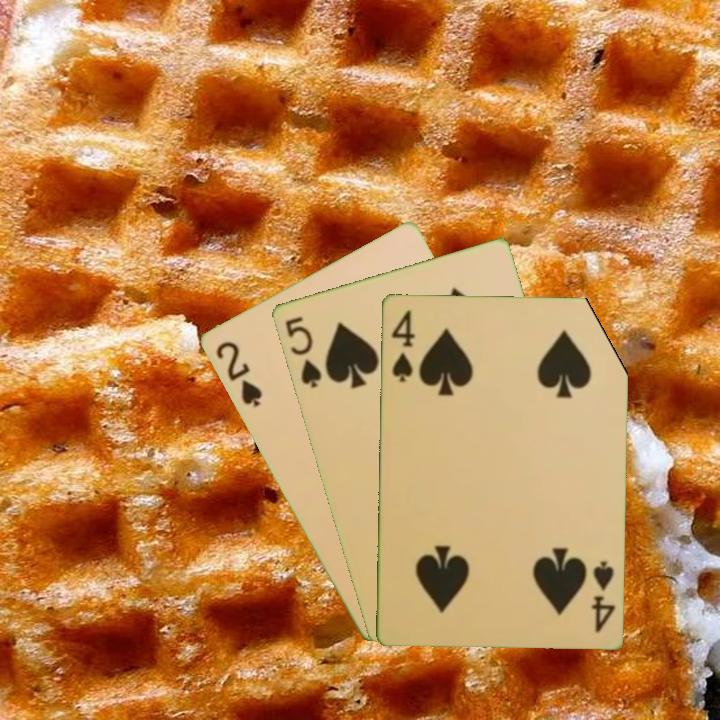2s: (211, 337, 265, 410)
4s: (388, 306, 418, 385), (588, 557, 618, 635)
5s: (281, 313, 324, 391)
